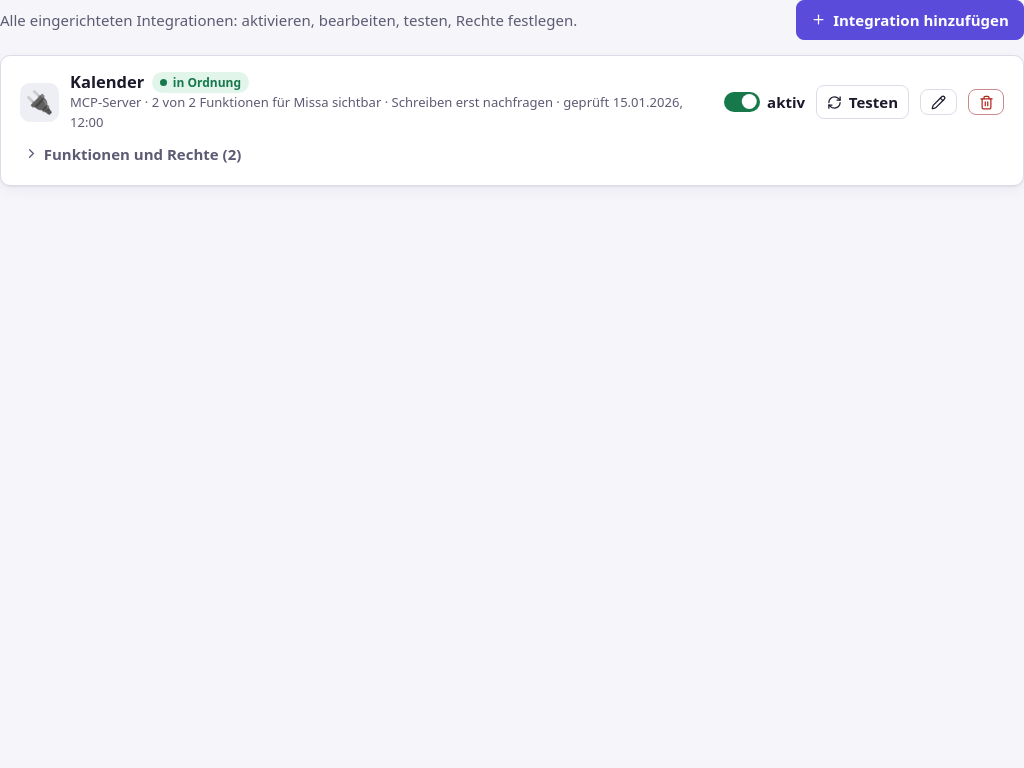
Scenario: Bearbeiten lädt die Auswahl aus dem Verbindungstest von selbst (z. B. die Kalender)
Click the button named "Kalender bearbeiten" at (938, 102), box top-left (920, 89), bottom-right (956, 115)
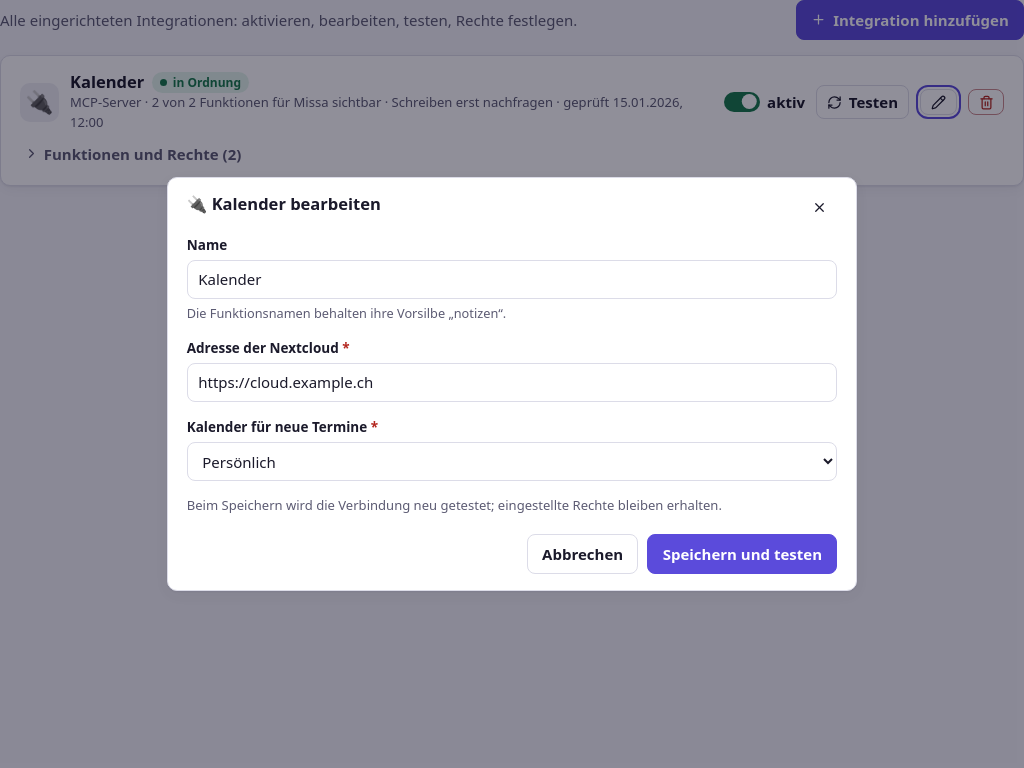
Result: the dropdown labelled "Kalender für neue Termine *" shows "Persönlich"
Select "Arbeit" in the dropdown labelled "Kalender für neue Termine *" at (512, 462), box top-left (187, 442), bottom-right (837, 481)
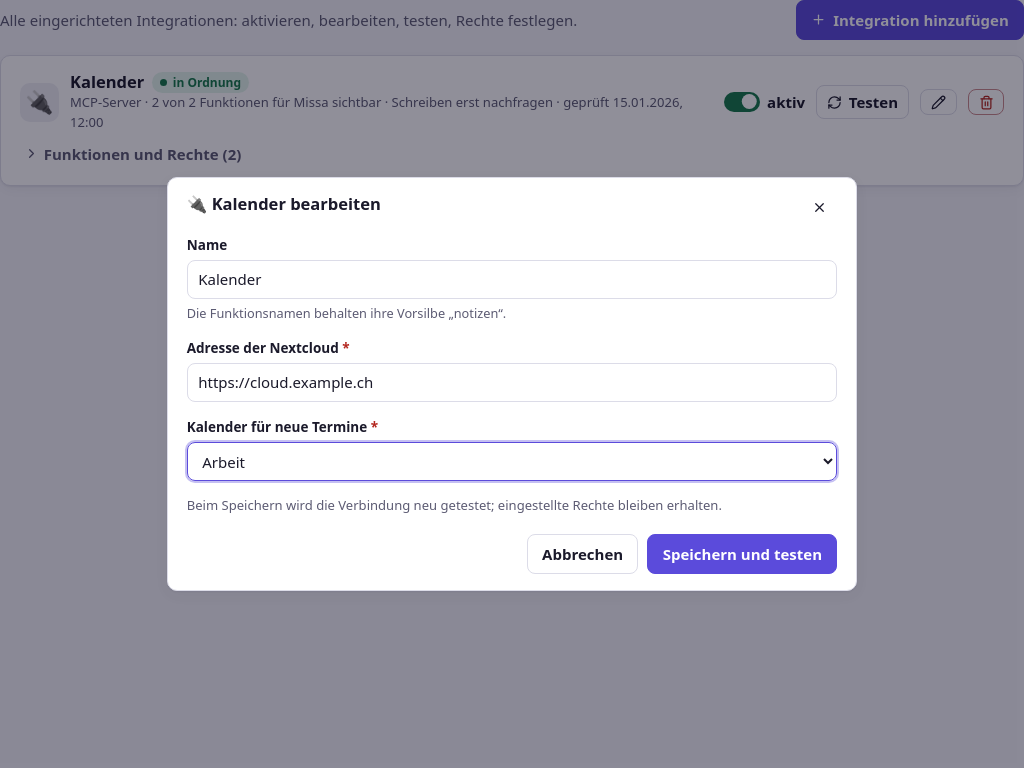
Click the button "Speichern und testen" at (742, 554), box top-left (647, 534), bottom-right (837, 574)
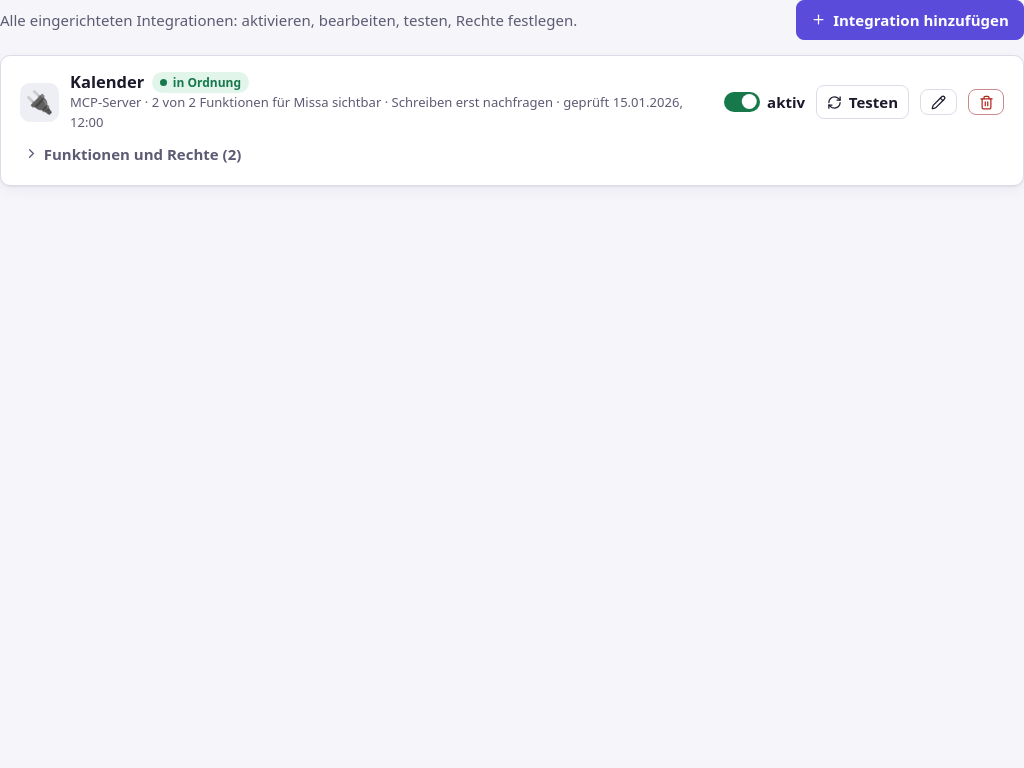
Result: the dialog is gone
